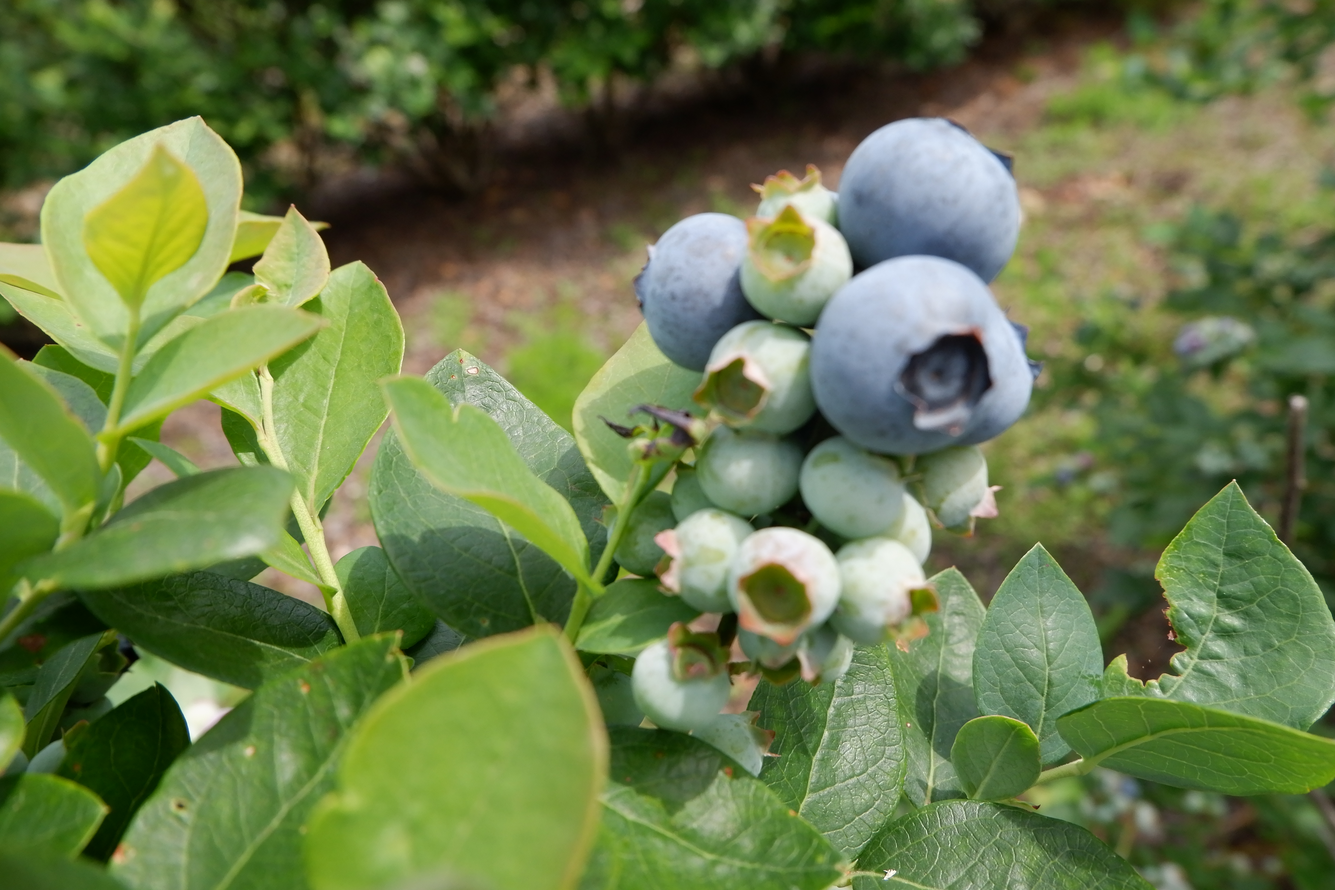Immature: (728, 532, 840, 644), (699, 323, 814, 432), (744, 214, 852, 323), (835, 542, 934, 647), (803, 439, 904, 536), (635, 628, 729, 729), (660, 509, 749, 611), (701, 426, 801, 514), (909, 447, 995, 533), (690, 710, 781, 780), (753, 166, 837, 222), (735, 624, 801, 687), (867, 495, 930, 557), (790, 625, 853, 682), (673, 467, 716, 520)
Mature: (813, 261, 1011, 452), (843, 121, 1020, 276), (636, 215, 759, 368), (964, 319, 1036, 444)
